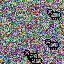sheep: (44, 38, 59, 51), (47, 9, 62, 21), (24, 49, 39, 60), (27, 54, 42, 64)
